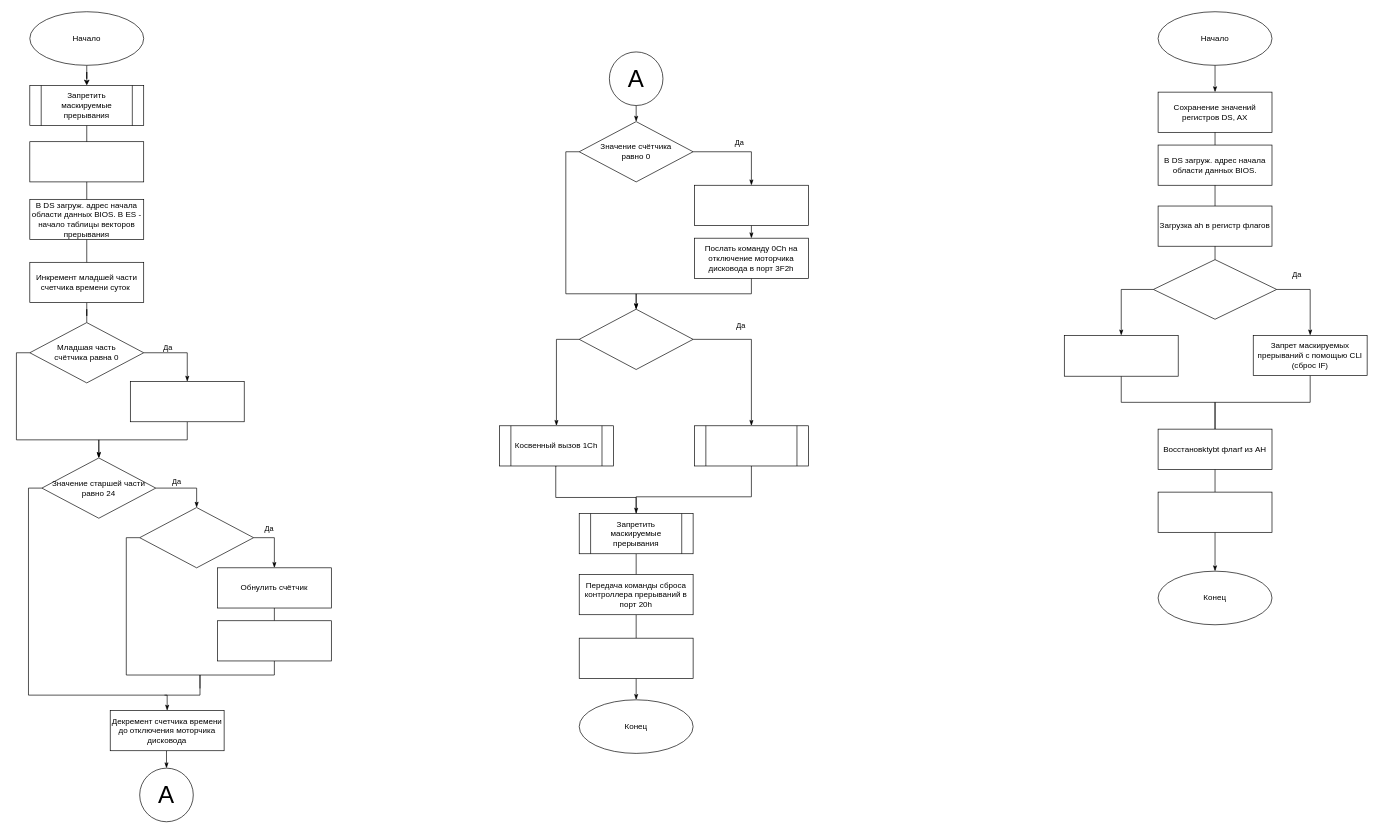
Image size: 1379x833. Some labels were removed from this diagram. The shapes that lost their labels are listed below. From the top down, each one's box as (x1, y1, x2, y2) in pixels, then its label:
(29, 141, 144, 182): Сохранение значений регистров ES, DS, AX, DX
(694, 185, 808, 225): Установка флага выключенного моторчика дисковода
(1153, 259, 1277, 319): Запрещены ли маскируемые прерывания
(579, 309, 693, 370): Установлен ли флаг четности (PF)
(1064, 335, 1178, 376): Запрет маскируемых прерываний с помощью AND (Сброс IF).
(130, 381, 244, 422): Инкремент старшей части счётчика времени суток
(694, 425, 808, 466): Вызов int 1Ch
(1157, 491, 1272, 532): Восстановление значений регистров(DS, AX)
(139, 507, 254, 568): Значение младшей части равно 176
(217, 620, 331, 661): Сохранить факт наступления новых суток
(579, 638, 693, 678): Восстановление значений регистров DX, AX, DS, ES
